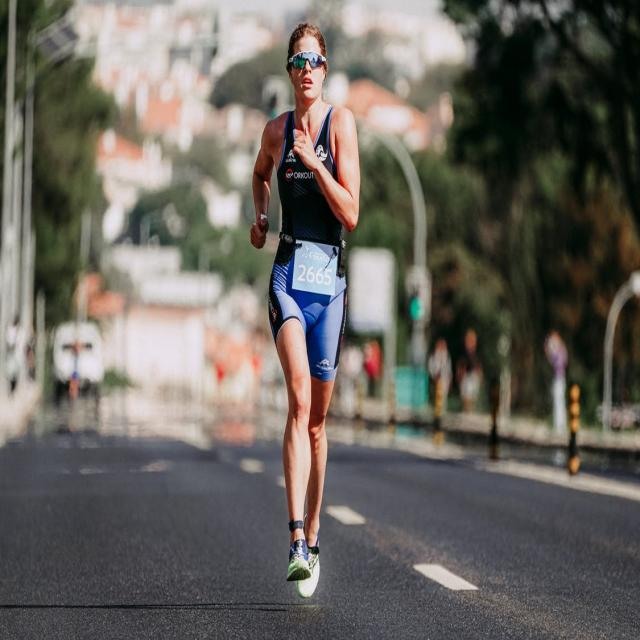running: (250, 18, 362, 603)
